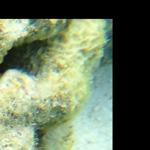dead: (3, 21, 109, 147)
